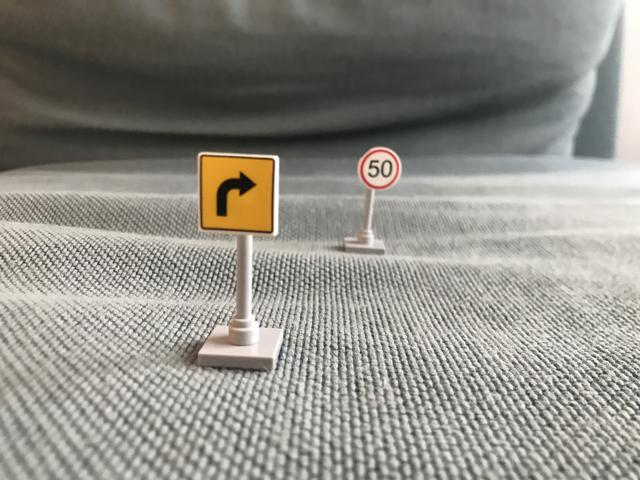fahrtrichtung rechts: (195, 152, 284, 238)
tempolimit 50: (353, 148, 404, 190)
